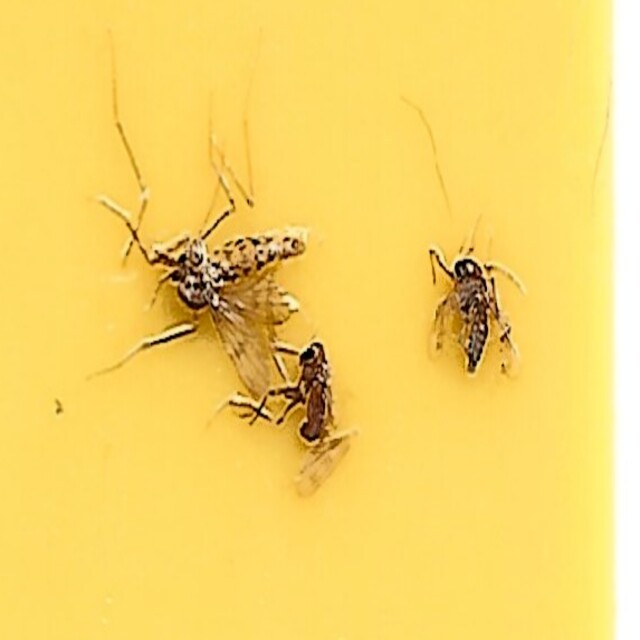Nematocera: (112, 181, 312, 393), (429, 247, 528, 399), (269, 323, 342, 459)
